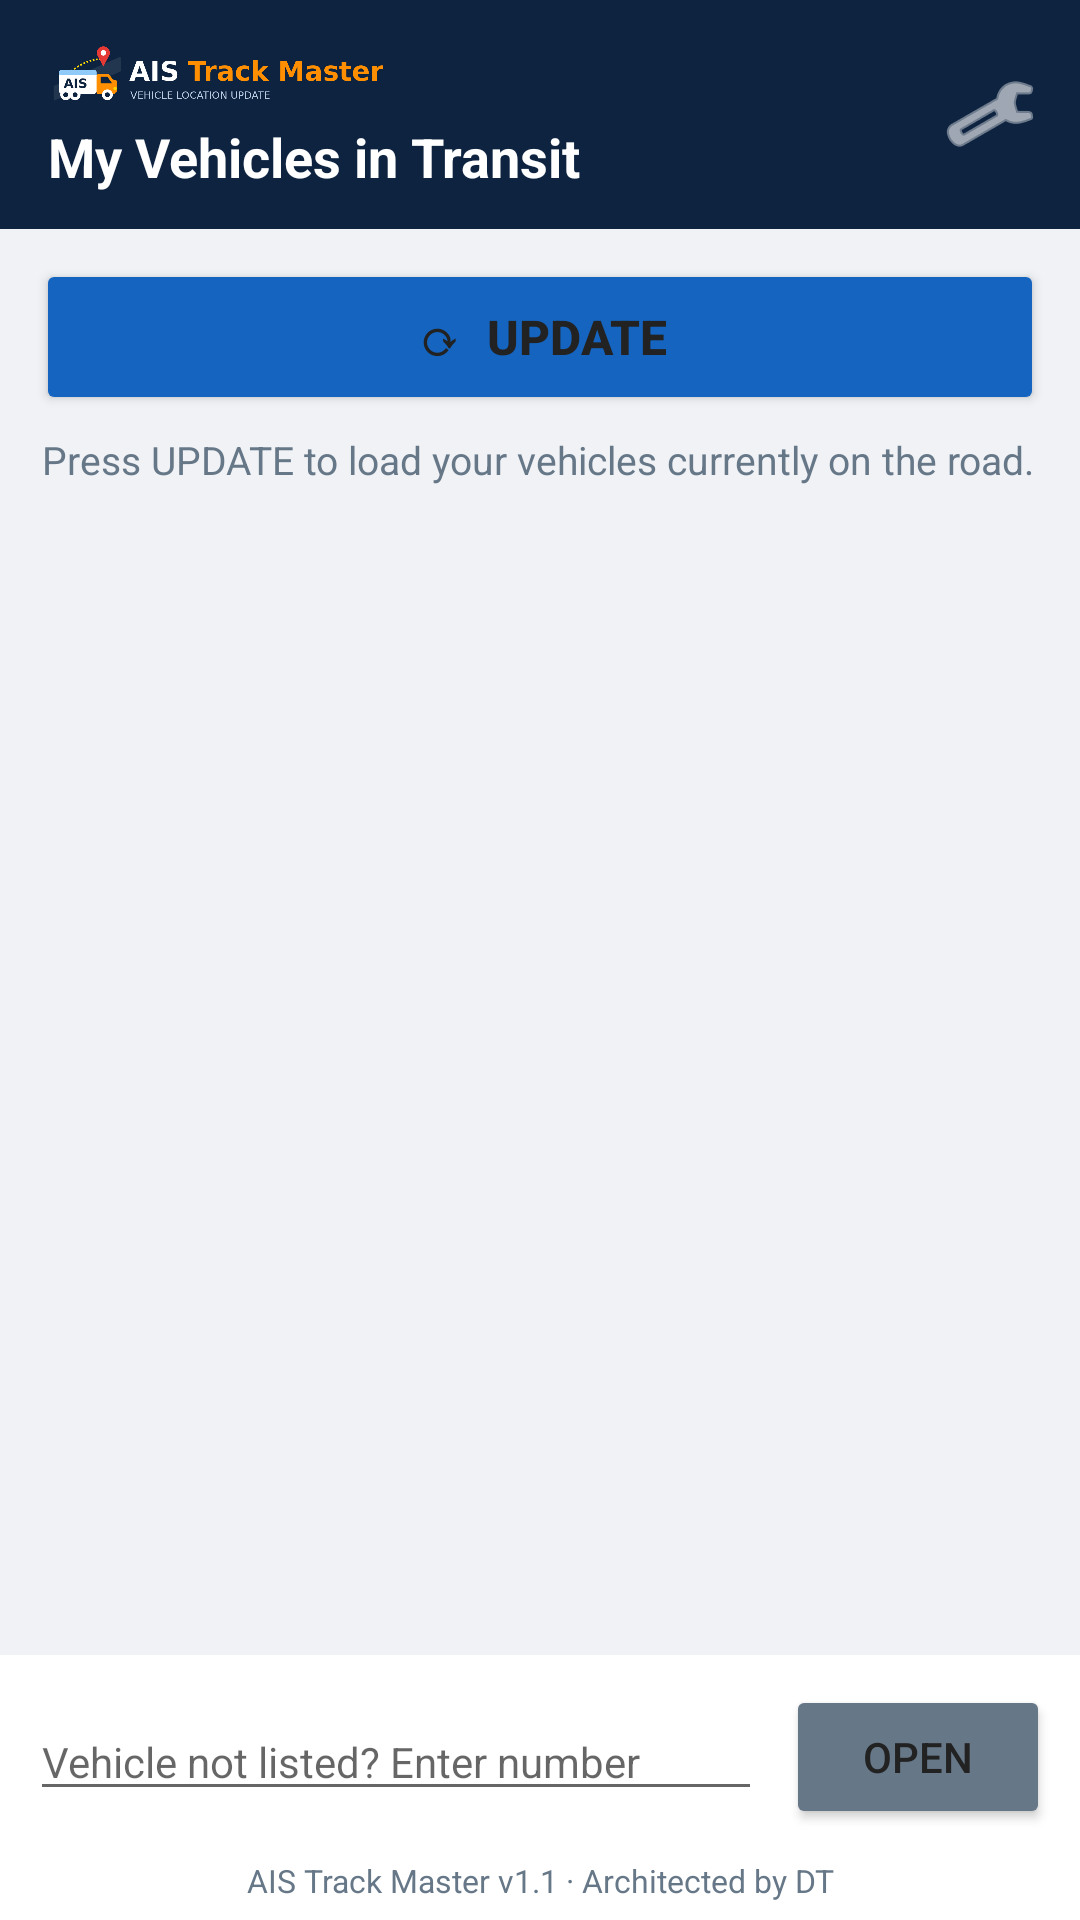

Where icons sit on this 1080 × 1920 app screen, as [x1=x1, y1=y1, x2=x2, y2=y2]:
Settings: [x1=947, y1=81, x2=1033, y2=147]
